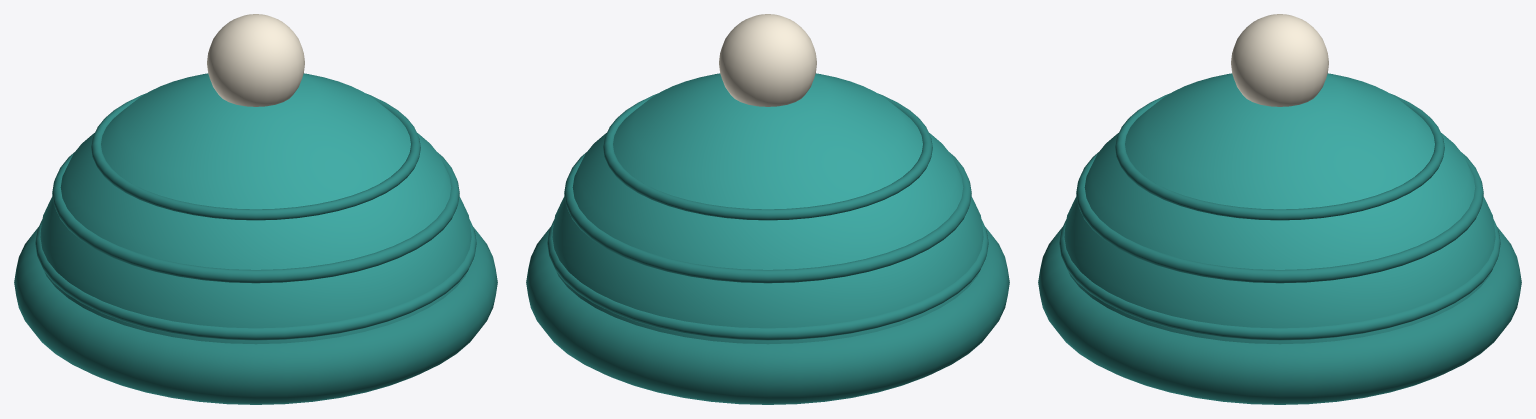
Rendered from beanie.glb.
The picture shows the model from 3 angles, left to right: view 1: azimuth 30°, elevation 25°; view 2: azimuth 150°, elevation 25°; view 3: azimuth 270°, elevation 25°; orthographic projection.
Parts seen in each view (by area): view 1: beanie_Crown, beanie_Cuff, beanie_Pompom, beanie_KnitBand1, beanie_KnitBand0, beanie_KnitBand2; view 2: beanie_Crown, beanie_Cuff, beanie_Pompom, beanie_KnitBand1, beanie_KnitBand0, beanie_KnitBand2; view 3: beanie_Crown, beanie_Cuff, beanie_Pompom, beanie_KnitBand1, beanie_KnitBand0, beanie_KnitBand2.
Part boxes in pixels (x1,y1,x2,y2): beanie_Crown: (40,73,471,344); beanie_Cuff: (14,227,497,404); beanie_Pompom: (207,14,304,106); beanie_KnitBand1: (52,152,459,283); beanie_KnitBand0: (35,219,476,340); beanie_KnitBand2: (91,93,420,220); beanie_Crown: (552,73,983,344); beanie_Cuff: (526,227,1009,404); beanie_Pompom: (719,14,816,106); beanie_KnitBand1: (564,152,971,283); beanie_KnitBand0: (547,219,988,340); beanie_KnitBand2: (603,93,932,220); beanie_Crown: (1064,73,1495,344); beanie_Cuff: (1038,227,1521,404); beanie_Pompom: (1231,14,1328,106); beanie_KnitBand1: (1076,152,1483,283); beanie_KnitBand0: (1059,219,1500,340); beanie_KnitBand2: (1115,93,1444,220).
Bounding box in the file's own units: 0.4136 × 0.279 × 0.4136.
